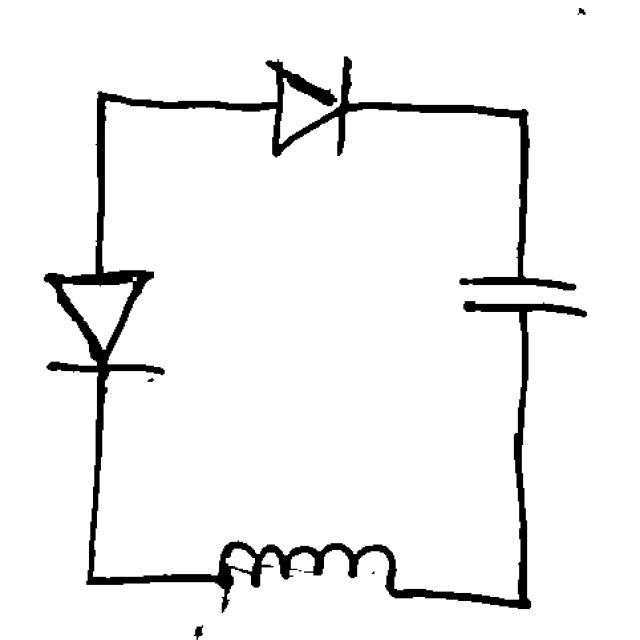capacitor: (448, 256, 599, 356)
diode: (30, 246, 181, 392), (251, 37, 368, 174)
inductor: (196, 523, 417, 617)
